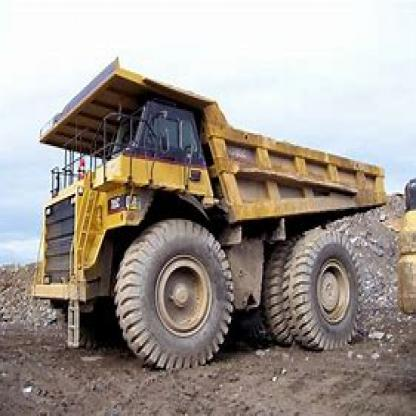dump_truck: (31, 53, 376, 361)
